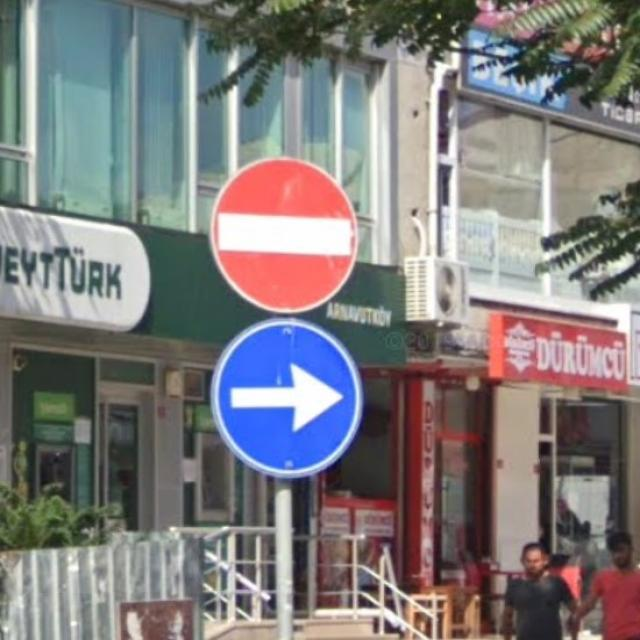girisyok: (211, 158, 357, 313)
sag: (209, 318, 368, 481)
